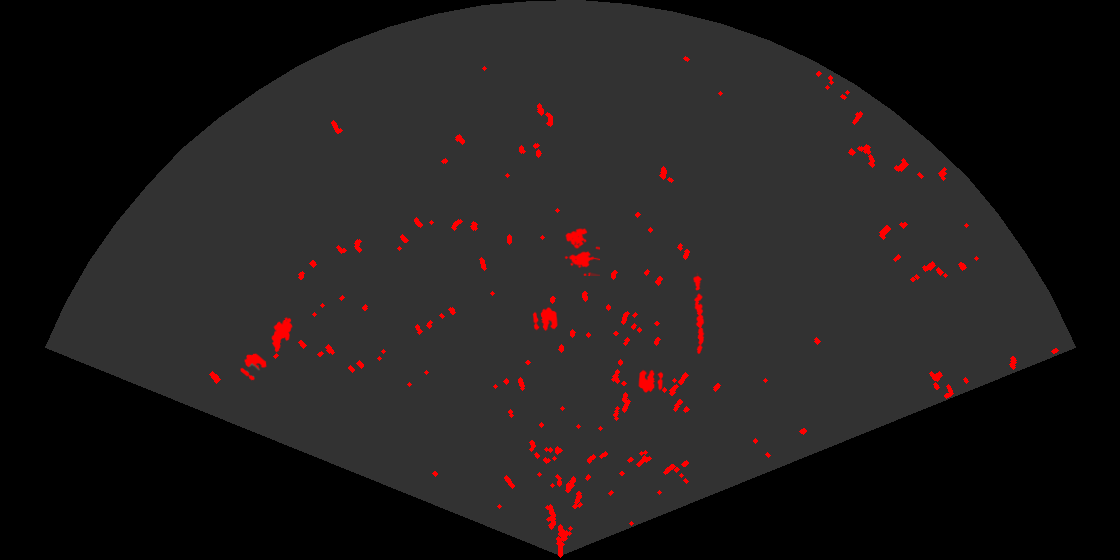AUV: (270, 315, 294, 354)
ball: (239, 352, 269, 382), (531, 306, 559, 333), (637, 368, 665, 394)
cage: (563, 227, 600, 276)
chain: (692, 273, 706, 354)
